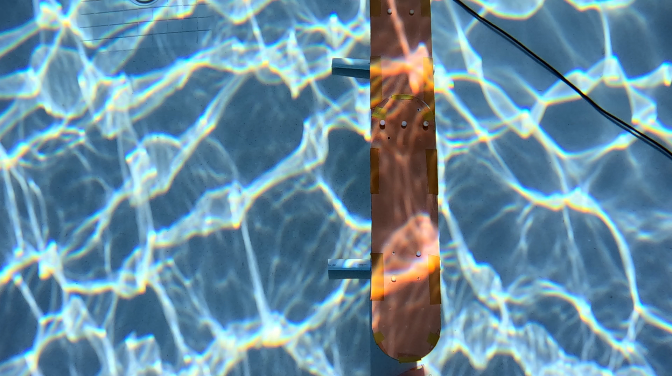pathmarker: (369, 0, 440, 361)
